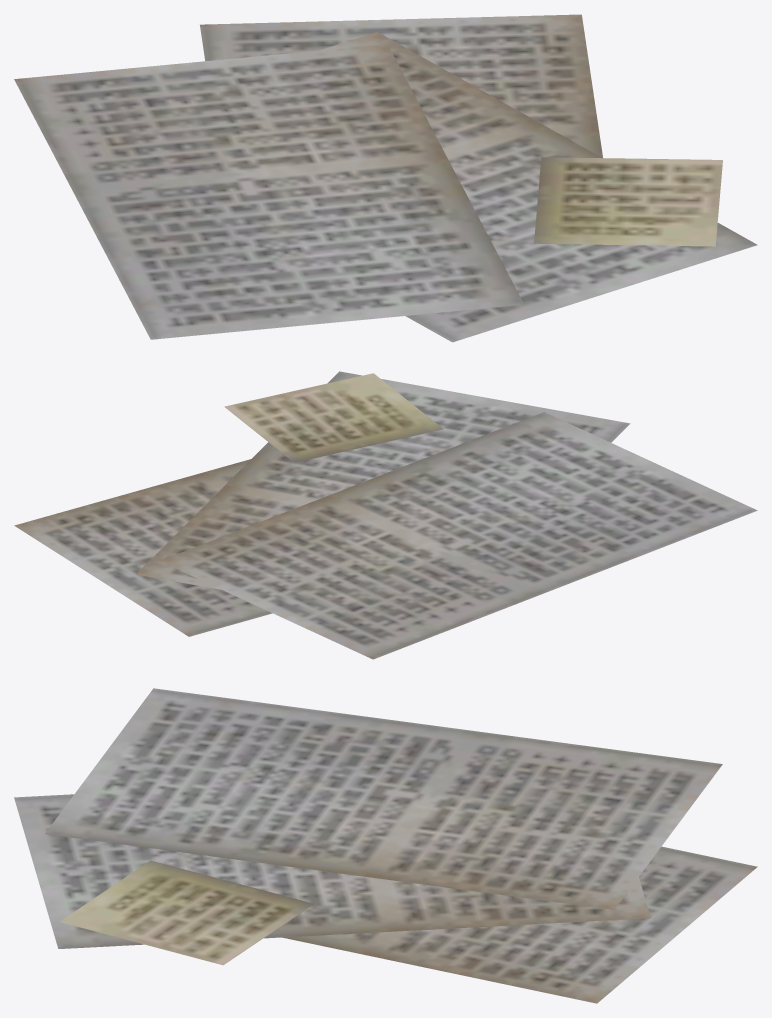
File: papers.fbx
The picture shows the model from 3 angles, top to bottom: view 1: azimuth 30°, elevation 25°; view 2: azimuth 150°, elevation 25°; view 3: azimuth 270°, elevation 25°; orthographic projection. The views are drawn at different scales.
Parts seen in each view (by area): view 1: mesh_1, mesh_0, mesh_2; view 2: mesh_1, mesh_0, mesh_2; view 3: mesh_1, mesh_0, mesh_2.
Boxes of the visible parts, x1=… form: mesh_1: x1=14, y1=44, x2=523, y2=339; mesh_0: x1=319, y1=32, x2=757, y2=342; mesh_2: x1=200, y1=14, x2=602, y2=157; mesh_1: x1=160, y1=412, x2=757, y2=659; mesh_0: x1=136, y1=371, x2=630, y2=589; mesh_2: x1=14, y1=459, x2=272, y2=636; mesh_1: x1=45, y1=688, x2=722, y2=909; mesh_0: x1=14, y1=794, x2=650, y2=965; mesh_2: x1=282, y1=846, x2=757, y2=1003.
Size of the model in its own units: 41.78 by 0.7782 by 42.79.
1 material, 1 textured.
